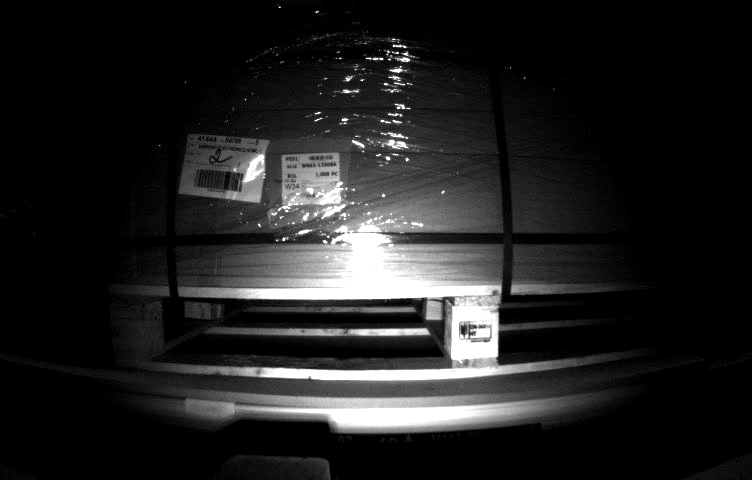True Barcode: (275, 151, 346, 211)
